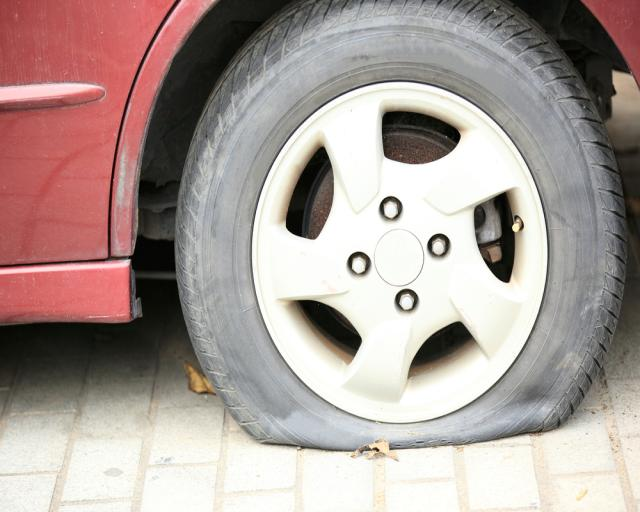tire flat: (174, 0, 627, 452)
